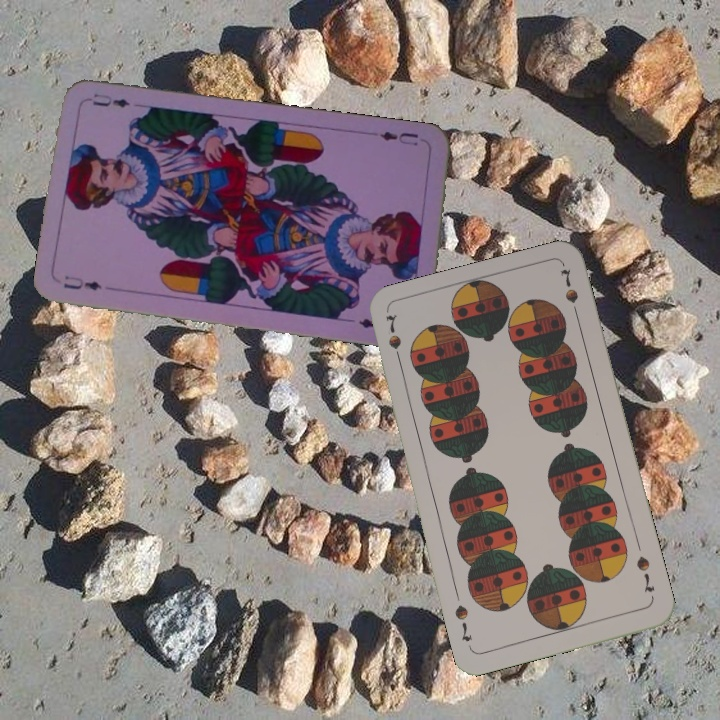EU: (376, 127, 421, 149), (59, 272, 105, 293)
S7: (381, 310, 405, 369), (632, 552, 658, 595)
